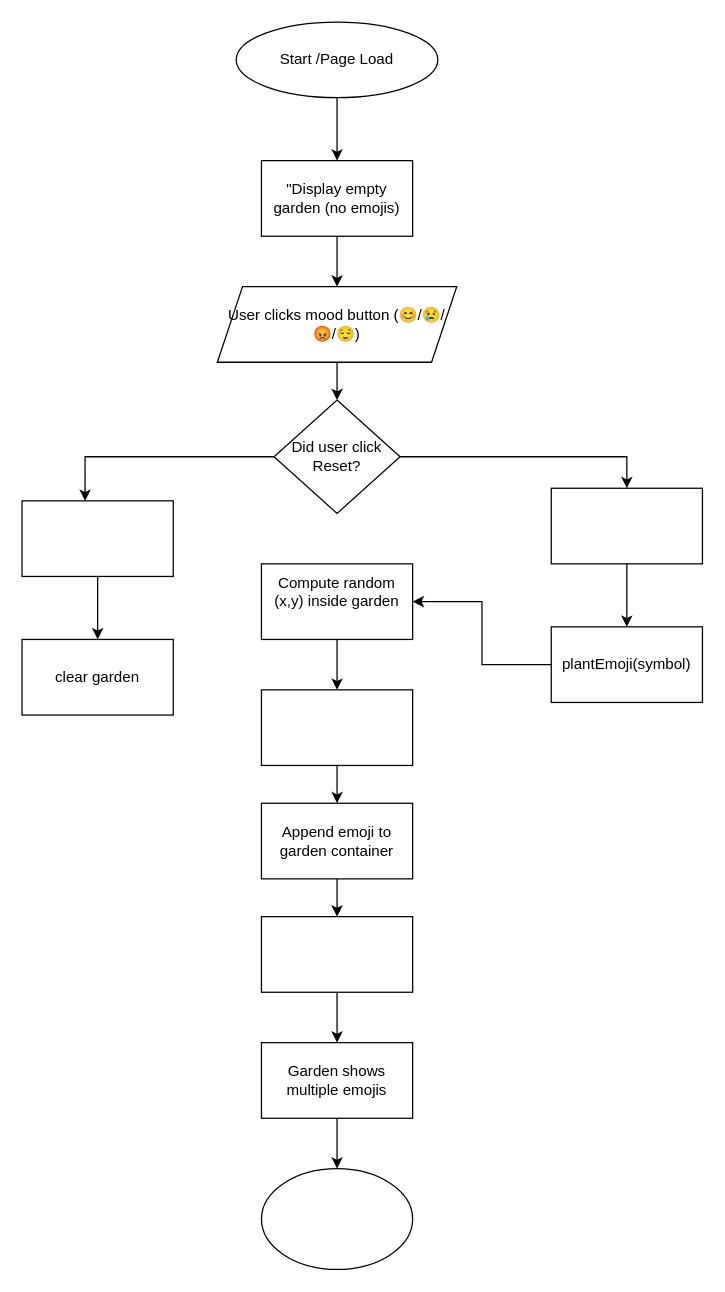
Image size: 725x1292. Some labels were removed from this diagram. Here are the shapes that lost their labels. From the top down, the centre of each, then its label:
At (x=97, y=538): "yes".
At (x=626, y=525): "no".
At (x=336, y=727): "Create <div> with emoji & position".
At (x=336, y=953): "Emoji grows (CSS animation)".
At (x=336, y=1218): "End".
